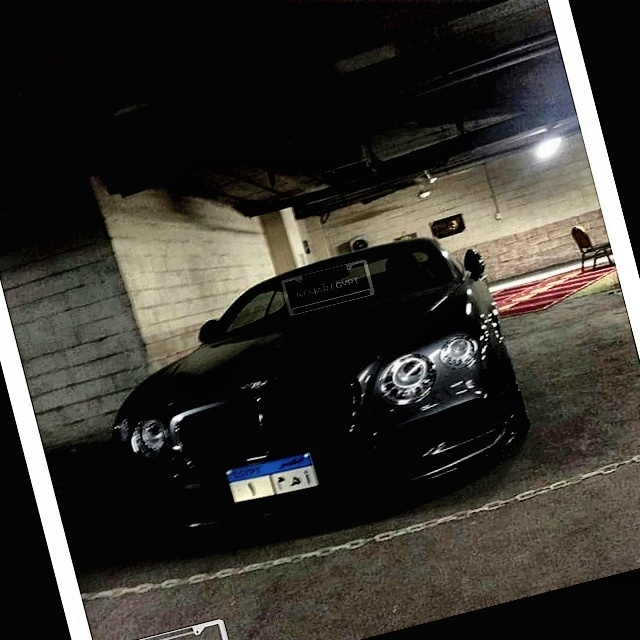License Plate: (221, 444, 324, 510)
